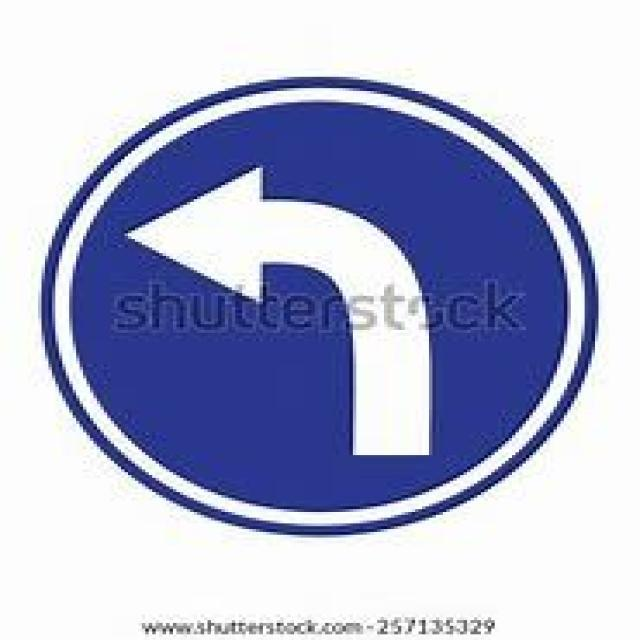compulsary turn left ahead: (39, 74, 600, 531)
